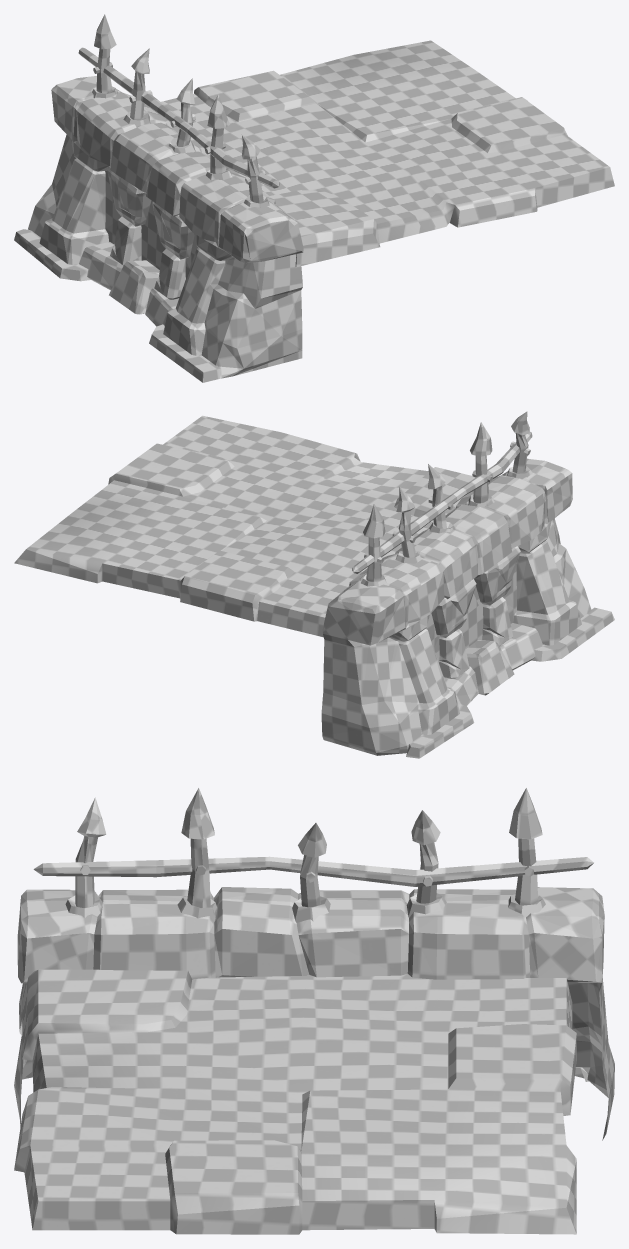
File: dungeon_platform.obj
The picture shows the model from 3 angles, top to bottom: view 1: azimuth 30°, elevation 25°; view 2: azimuth 150°, elevation 25°; view 3: azimuth 270°, elevation 25°; orthographic projection. The views are drawn at different scales.
Parts seen in each view (by area): view 1: fence, floor; view 2: fence, floor; view 3: floor, fence.
Part boxes in pixels (x1,y1,x2,y2): fence: (14, 14, 303, 382); floor: (161, 40, 614, 267); fence: (321, 411, 614, 758); floor: (14, 415, 475, 637); floor: (14, 969, 576, 1234); fence: (14, 788, 614, 1140).
Bounding box in the file's own units: 1050 × 544 × 879.
